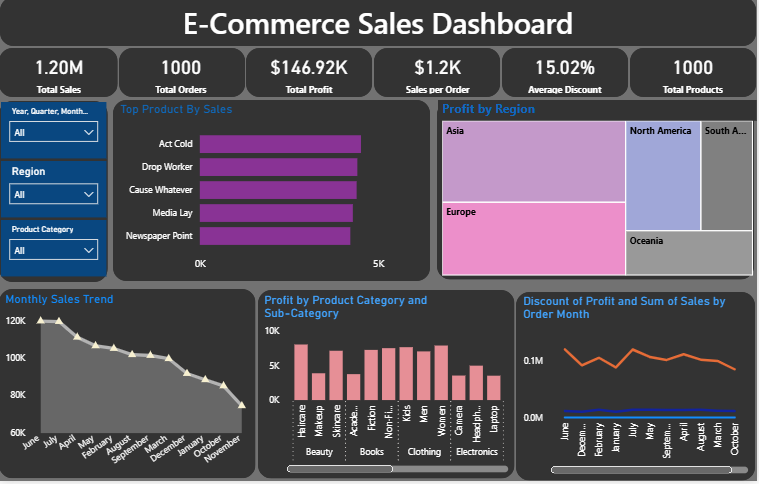

Layout of this report page (visuals, bound fields, positions):
{"tool":"powerbi","page":{"name":"Page 1","canvas":[913,583],"ordinal":0},"visuals":[{"type":"shape","box":[312,353,309,227],"z":0},{"type":"shape","box":[1,0,911,59],"z":1000},{"type":"shape","box":[145,62,152,59],"z":2000},{"type":"shape","box":[298,62,152,59],"z":3000},{"type":"shape","box":[452,62,152,59],"z":4000},{"type":"shape","box":[0,62,143,59],"z":5000},{"type":"shape","box":[606,62,152,59],"z":6000},{"type":"shape","box":[760,62,152,59],"z":7000},{"type":"card","fields":{"Values":["Sheet1.Total Sales"]},"box":[0,62,144,60],"z":8000},{"type":"card","fields":{"Values":["Sheet1.Total Orders"]},"box":[147,61,144,60],"z":9000},{"type":"card","fields":{"Values":["Sheet1.Total Profit"]},"box":[303,61,142,60],"z":10000},{"type":"card","fields":{"Values":["Sheet1.Total Products"]},"box":[764,62,144,60],"z":11000},{"type":"card","fields":{"Values":["Sheet1.Sales per Order"]},"box":[457,62,144,60],"z":12000},{"type":"card","fields":{"Values":["Sheet1.Average Discount"]},"box":[610,61,144,60],"z":13000},{"type":"shape","box":[0,125,131,218],"z":14000},{"type":"slicer","fields":{"Values":["Sheet1.Region"]},"box":[2,197,127,68],"z":15000},{"type":"slicer","fields":{"Values":["Sheet1.Product Category"]},"box":[2,269,127,68],"z":16000},{"type":"slicer","fields":{"Values":["Sheet1.Order Date.Variation.Date Hierarchy.Year","Sheet1.Order Date.Variation.Date Hierarchy.Quarter","Sheet1.Order Date.Variation.Date Hierarchy.Month","Sheet1.Order Date.Variation.Date Hierarchy.Day"]},"box":[3,126,127,68],"z":17000},{"type":"shape","box":[623,355,288,227],"z":17500},{"type":"shape","box":[137,124,382,218],"z":18000},{"type":"shape","box":[528,125,382,215],"z":19000},{"type":"barChart","title":"Top Product By Sales","fields":{"Category":["Sheet1.Product Name"],"Y":["Sheet1.Total Sales"]},"box":[141,126,371,213],"z":20000},{"type":"lineChart","title":" Discount of Profit and Sum of Sales by Order Month","fields":{"Category":["Sheet1.Order Month"],"Y":["Sum(Sheet1.Discount)","Sum(Sheet1.Profit)","Sum(Sheet1.Sales)"]},"box":[626,358,281,221],"z":20500},{"type":"shape","box":[0,352,309,228],"z":21000},{"type":"lineChart","title":" Monthly Sales Trend","fields":{"Category":["Sheet1.Order Month"],"Y":["Sheet1.Total Sales"]},"box":[3,356,304,220],"z":22000},{"type":"treemap","title":" Profit by Region","fields":{"Group":["Sheet1.Region"],"Values":["Sheet1.Total Profit"]},"box":[529,124,384,216],"z":23000},{"type":"columnChart","title":" Profit by Product Category and Sub-Category","fields":{"Category":["Sheet1.Product Category","Sheet1.Sub-Category"],"Y":["Sum(Sheet1.Profit)"]},"box":[314,357,304,221],"z":25000}]}

Visuals, with their boxes in screenshot pixels (x1, y1, x2, y2), scaled from the page's 913x583 canvas onto the 759x484 screenshot:
shape: {"left": 259, "top": 293, "right": 516, "bottom": 482}
shape: {"left": 1, "top": 0, "right": 758, "bottom": 49}
shape: {"left": 121, "top": 51, "right": 247, "bottom": 100}
shape: {"left": 248, "top": 51, "right": 374, "bottom": 100}
shape: {"left": 376, "top": 51, "right": 502, "bottom": 100}
shape: {"left": 0, "top": 51, "right": 119, "bottom": 100}
shape: {"left": 504, "top": 51, "right": 630, "bottom": 100}
shape: {"left": 632, "top": 51, "right": 758, "bottom": 100}
card - Sheet1.Total Sales: {"left": 0, "top": 51, "right": 120, "bottom": 101}
card - Sheet1.Total Orders: {"left": 122, "top": 51, "right": 242, "bottom": 100}
card - Sheet1.Total Profit: {"left": 252, "top": 51, "right": 370, "bottom": 100}
card - Sheet1.Total Products: {"left": 635, "top": 51, "right": 755, "bottom": 101}
card - Sheet1.Sales per Order: {"left": 380, "top": 51, "right": 500, "bottom": 101}
card - Sheet1.Average Discount: {"left": 507, "top": 51, "right": 627, "bottom": 100}
shape: {"left": 0, "top": 104, "right": 109, "bottom": 285}
slicer - Sheet1.Region: {"left": 2, "top": 164, "right": 107, "bottom": 220}
slicer - Sheet1.Product Category: {"left": 2, "top": 223, "right": 107, "bottom": 280}
slicer - Sheet1.Order Date.Variation.Date Hierarchy.Year x Sheet1.Order Date.Variation.Date Hierarchy.Quarter: {"left": 2, "top": 105, "right": 108, "bottom": 161}
shape: {"left": 518, "top": 295, "right": 757, "bottom": 483}
shape: {"left": 114, "top": 103, "right": 431, "bottom": 284}
shape: {"left": 439, "top": 104, "right": 757, "bottom": 282}
"Top Product By Sales" barChart: {"left": 117, "top": 105, "right": 426, "bottom": 281}
" Discount of Profit and Sum of Sales by Order Month" lineChart: {"left": 520, "top": 297, "right": 754, "bottom": 481}
shape: {"left": 0, "top": 292, "right": 257, "bottom": 482}
" Monthly Sales Trend" lineChart: {"left": 2, "top": 296, "right": 255, "bottom": 478}
" Profit by Region" treemap: {"left": 440, "top": 103, "right": 758, "bottom": 282}
" Profit by Product Category and Sub-Category" columnChart: {"left": 261, "top": 296, "right": 514, "bottom": 480}
